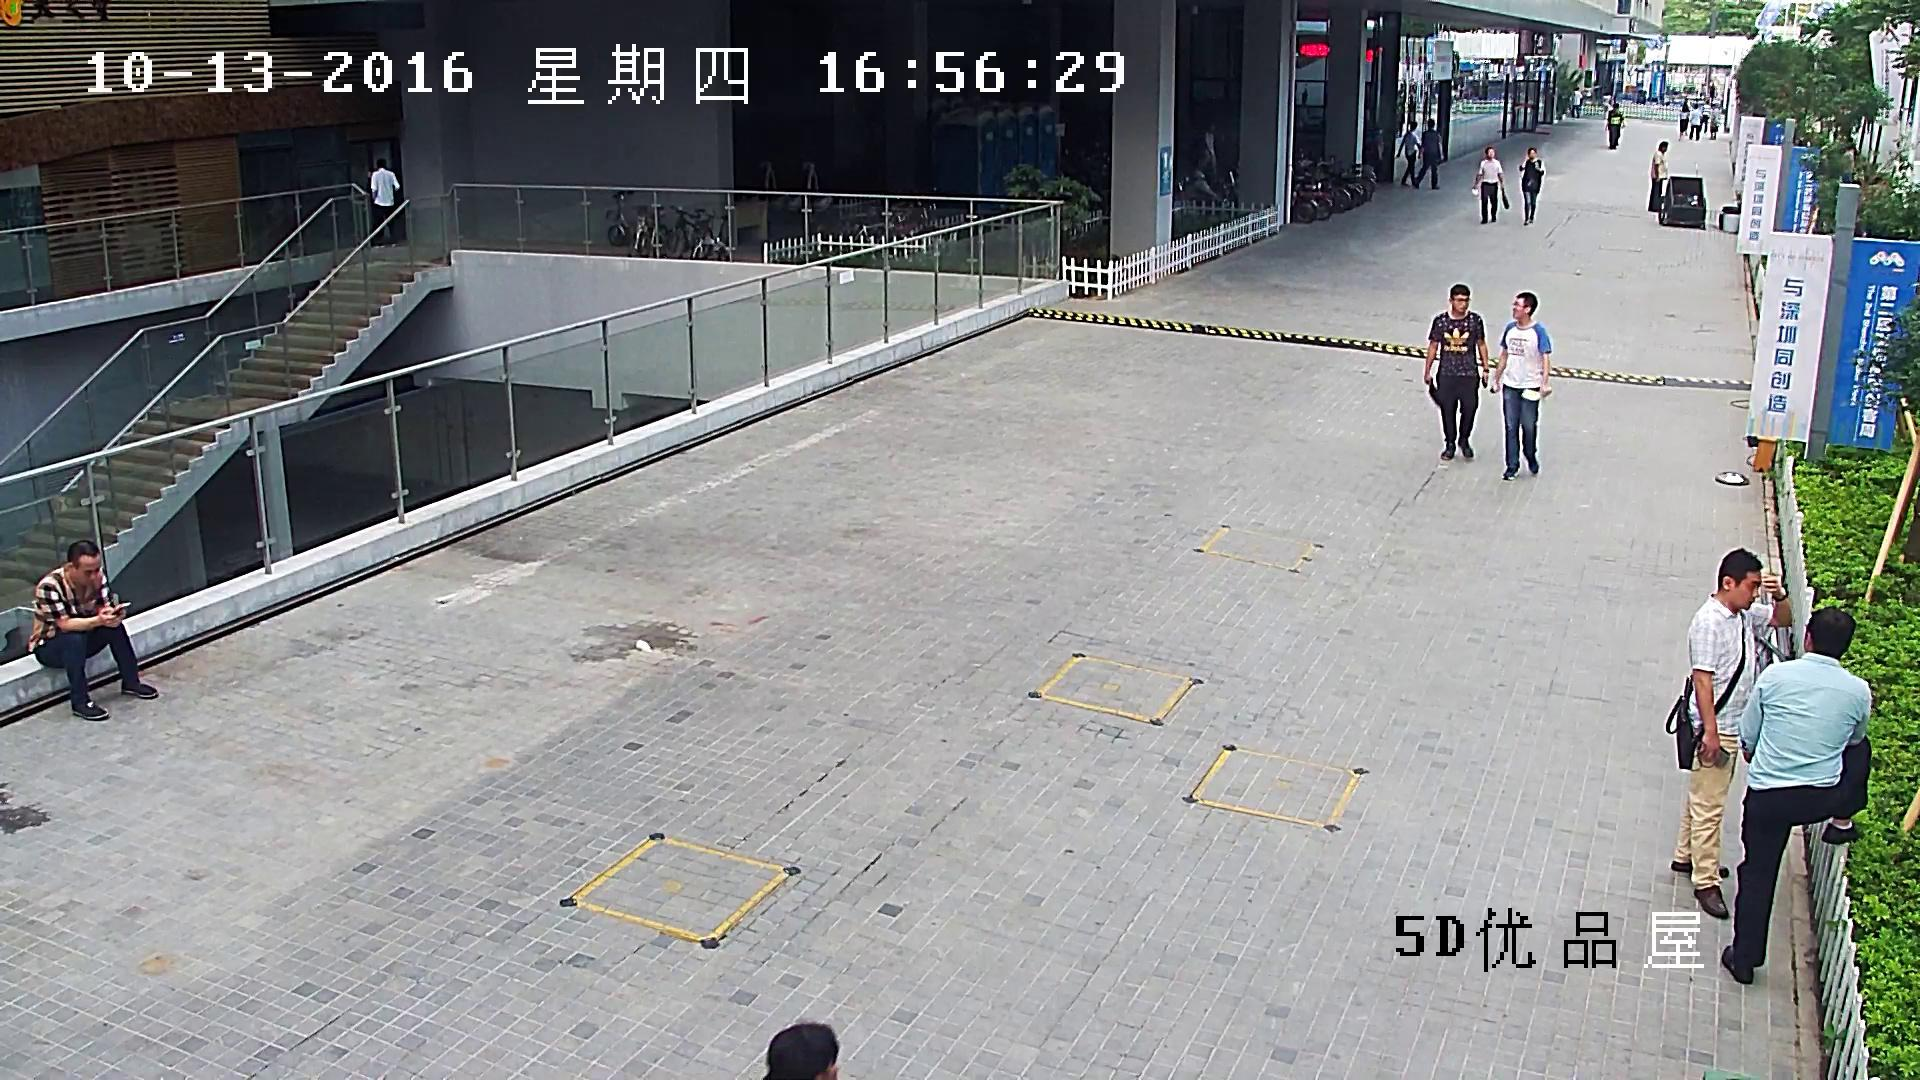person: (1720, 605, 1872, 984), (1665, 548, 1793, 921), (29, 540, 159, 722), (1490, 292, 1554, 480), (1423, 284, 1489, 460), (1470, 147, 1509, 223), (370, 157, 401, 248), (1519, 146, 1547, 225), (1413, 119, 1441, 190), (1395, 120, 1422, 186), (1648, 142, 1669, 213), (1199, 123, 1219, 168), (1605, 104, 1624, 149), (1690, 103, 1702, 140), (1699, 98, 1710, 132), (1680, 97, 1689, 136), (1709, 103, 1718, 138), (1572, 85, 1581, 117)
